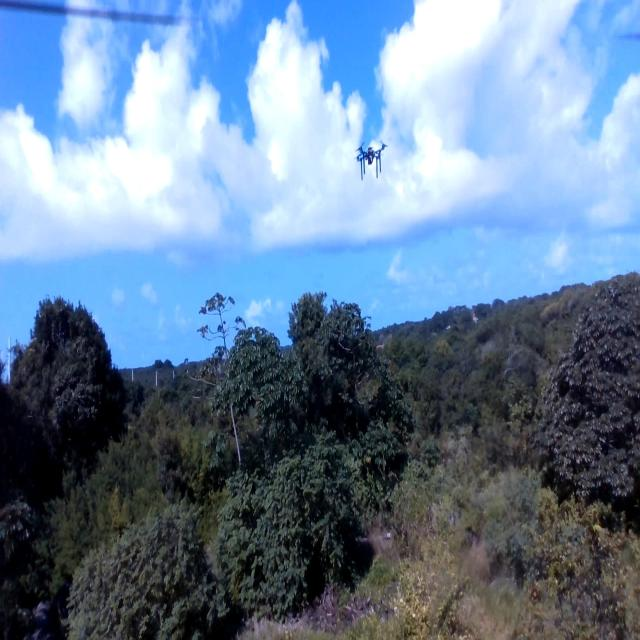-uav-: (349, 138, 396, 179)
